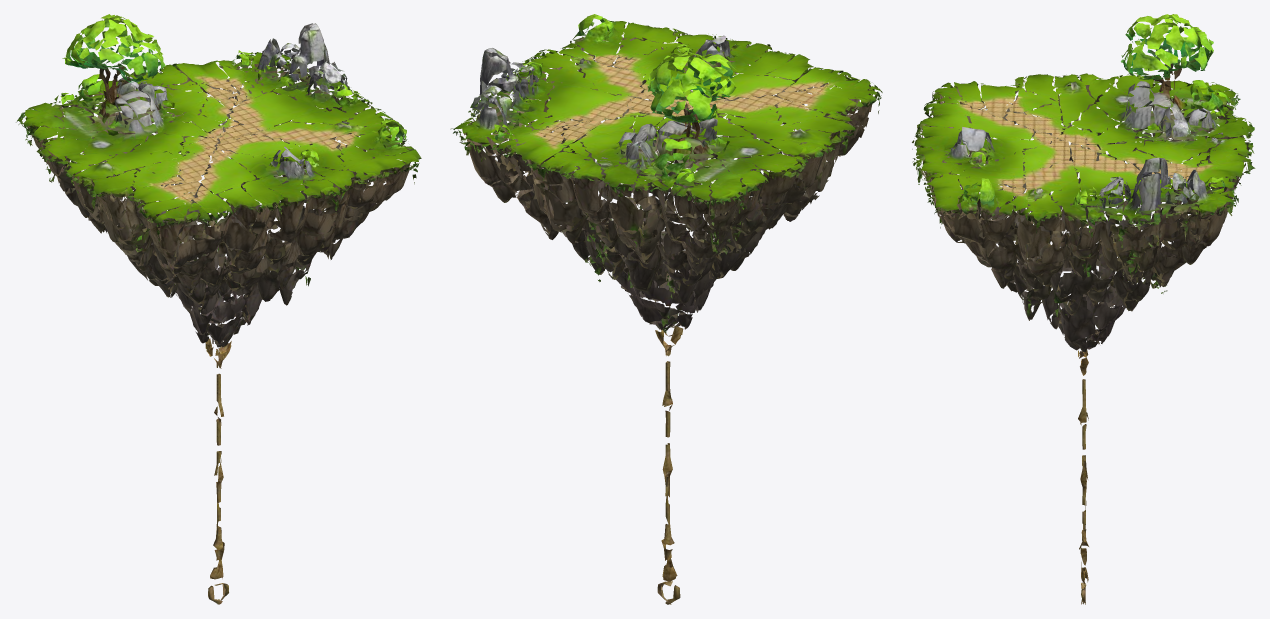
File: ile.glb
The picture shows the model from 3 angles, left to right: view 1: azimuth 30°, elevation 25°; view 2: azimuth 150°, elevation 25°; view 3: azimuth 270°, elevation 25°; orthographic projection. The views are drawn at different scales.
Visible parts, largest first — view 1: mesh; view 2: mesh; view 3: mesh.
Part boxes in pixels (left/top/right/bottom): mesh: left=16, top=14, right=421, bottom=604; mesh: left=450, top=14, right=882, bottom=604; mesh: left=912, top=14, right=1255, bottom=604.
Bounding box in the file's own units: 1.07 × 1.9 × 1.06.
Materials: 1 (1 with a texture image).
